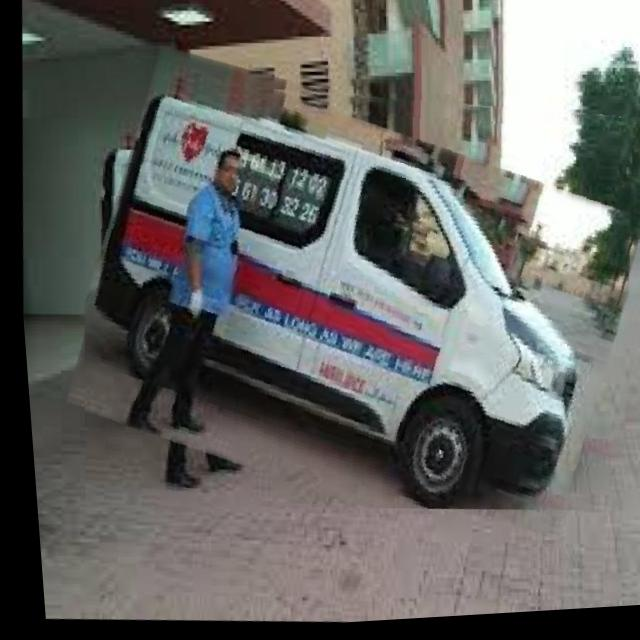ambulance: (52, 49, 640, 543)
